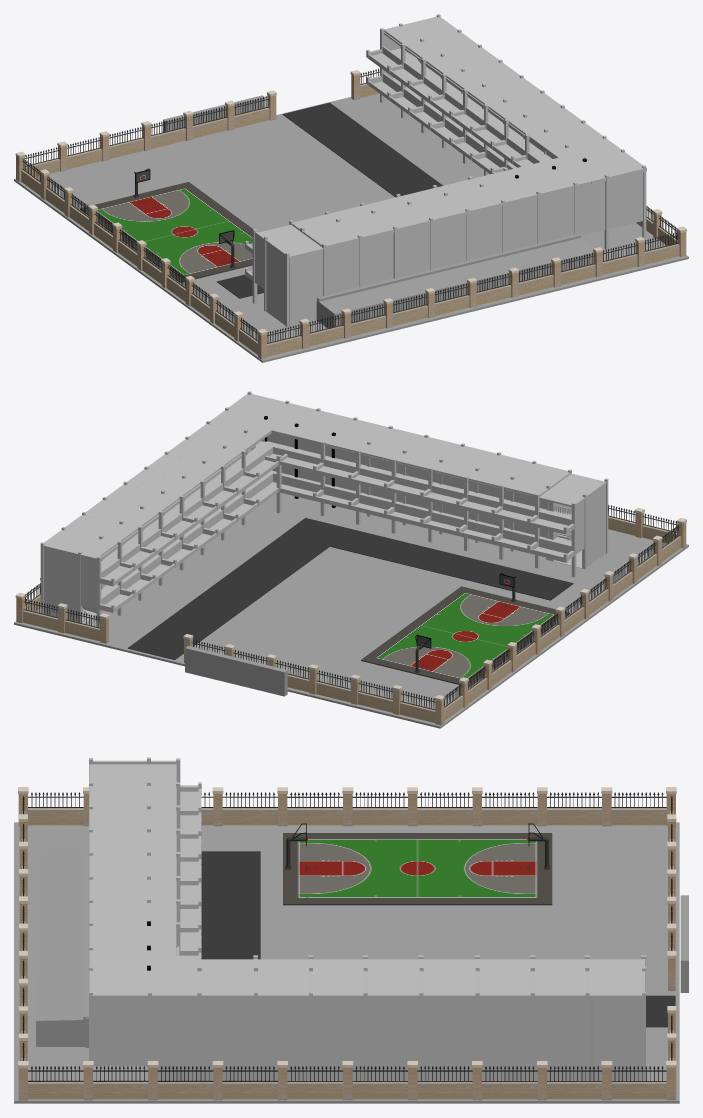
The model's file is school.fbx.
3 renders of one model, top to bottom at view 1: azimuth 30°, elevation 25°; view 2: azimuth 150°, elevation 25°; view 3: azimuth 270°, elevation 25°, orthographic. The views are drawn at different scales.
Visible parts, largest first — view 1: polySurface10, base_ground, Basketball_Court:Floor1, pCube43, group14, road, group8_pCube1, group8_pCube3, group8_pCube4, stair_all2, pCube44, group15 (+1 smaller); view 2: polySurface10, base_ground, road, Basketball_Court:Floor1, group14, group8_pCube1, pCube44, group8_pCube3, group9, group16; view 3: polySurface10, base_ground, Basketball_Court:Floor1, group15, group14, pCube43, road, stair_all3, stair_all1, group8_pCube1, group8_pCube3, group8_pCube4 (+3 smaller).
Part boxes in pixels (left/top/right/bottom): polySurface10: left=245, top=14, right=646, bottom=327; base_ground: left=14, top=93, right=688, bottom=362; Basketball_Court:Floor1: left=80, top=182, right=252, bottom=281; pCube43: left=316, top=233, right=593, bottom=328; group14: left=16, top=153, right=267, bottom=359; road: left=216, top=102, right=442, bottom=298; group8_pCube1: left=15, top=90, right=276, bottom=181; group8_pCube3: left=257, top=268, right=517, bottom=359; group8_pCube4: left=509, top=226, right=686, bottom=297; stair_all2: left=289, top=248, right=321, bottom=326; pCube44: left=163, top=95, right=265, bottom=132; group15: left=636, top=206, right=686, bottom=256; polySurface10: left=40, top=391, right=608, bottom=628; base_ground: left=14, top=493, right=688, bottom=728; road: left=127, top=518, right=573, bottom=659; Basketball_Court:Floor1: left=361, top=586, right=569, bottom=686; group14: left=435, top=518, right=686, bottom=725; group8_pCube1: left=183, top=634, right=444, bottom=725; pCube44: left=185, top=646, right=287, bottom=696; group8_pCube3: left=608, top=505, right=686, bottom=548; group9: left=58, top=603, right=109, bottom=643; group16: left=15, top=593, right=66, bottom=632; polySurface10: left=89, top=757, right=645, bottom=1082; base_ground: left=14, top=822, right=679, bottom=1103; Basketball_Court:Floor1: left=283, top=833, right=552, bottom=903; group15: left=18, top=1061, right=676, bottom=1100; group14: left=18, top=787, right=676, bottom=826; pCube43: left=36, top=846, right=88, bottom=1047; road: left=201, top=851, right=675, bottom=1027; stair_all3: left=593, top=1000, right=641, bottom=1082; stair_all1: left=152, top=1000, right=197, bottom=1082; group8_pCube1: left=667, top=787, right=676, bottom=990; group8_pCube3: left=19, top=787, right=27, bottom=951; group8_pCube4: left=19, top=951, right=27, bottom=1100.
Bounding box in the file's own units: 615 × 113 × 630.
